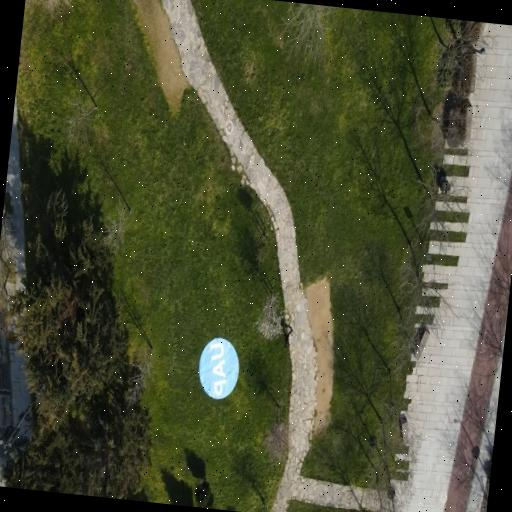car: (199, 338, 239, 400)
person: (283, 323, 293, 348)
